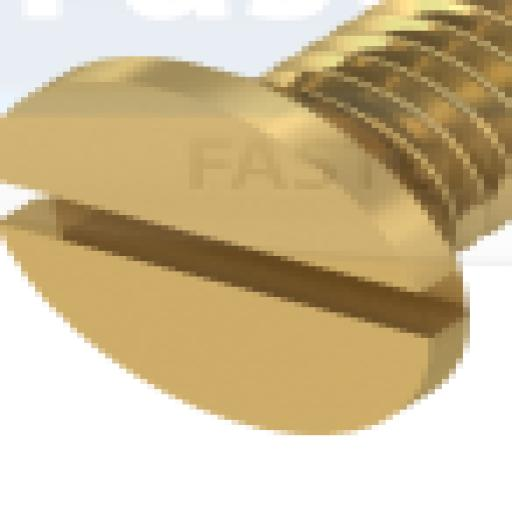Slotted: (19, 45, 458, 446)
